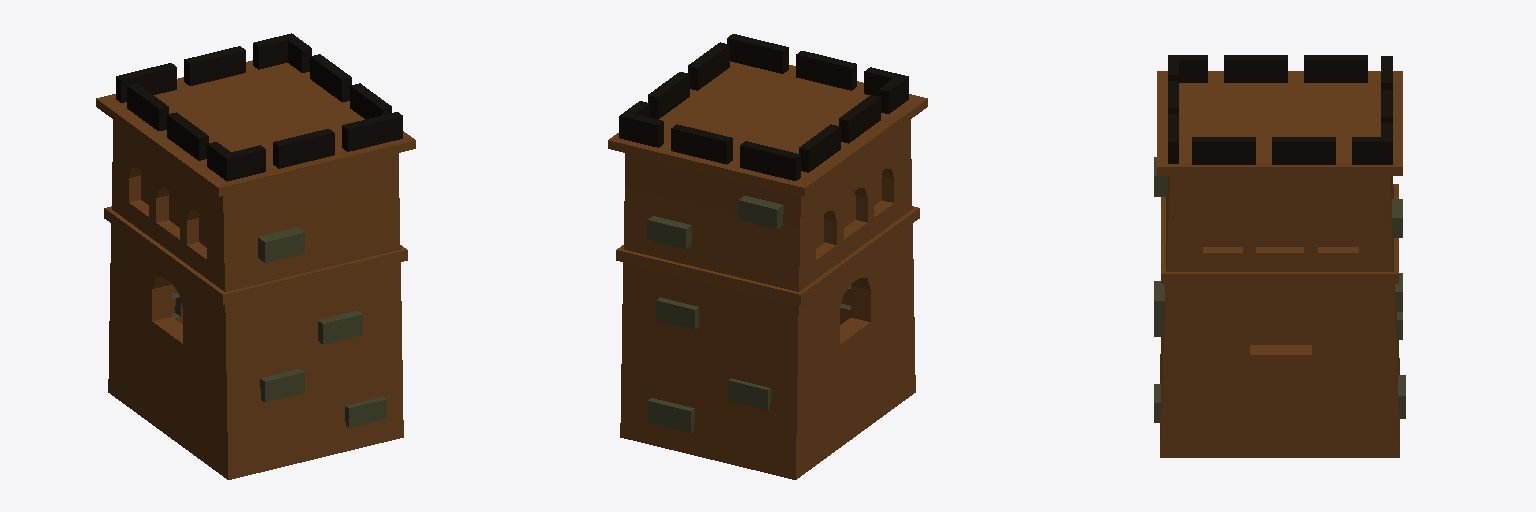
The model's file is greatwall2.obj.
The picture shows the model from 3 angles: view 1: azimuth 30°, elevation 25°; view 2: azimuth 150°, elevation 25°; view 3: azimuth 270°, elevation 25°; orthographic projection.
Parts seen in each view (by area): view 1: polySurface7; view 2: polySurface7; view 3: polySurface7.
Part boxes in pixels (bbox=[...]): polySurface7: bbox=[96, 33, 415, 479]; polySurface7: bbox=[608, 34, 927, 479]; polySurface7: bbox=[1154, 55, 1405, 457].
Size of the model in its own units: 10.14 by 15.62 by 11.25.